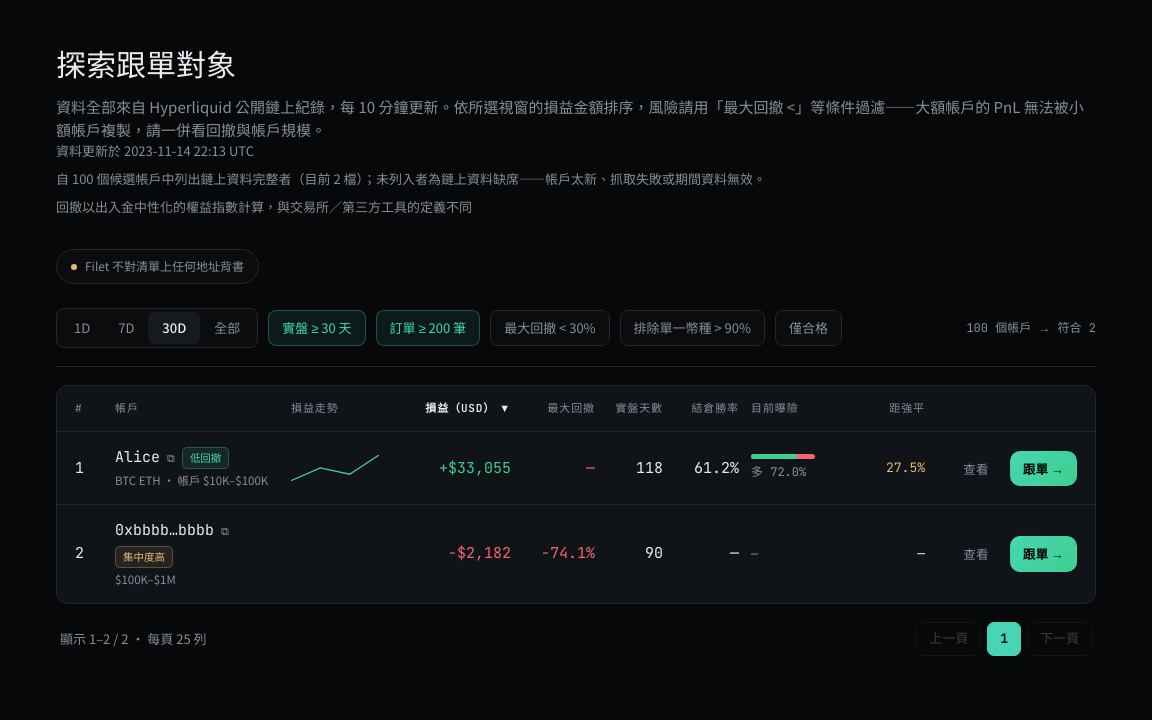
Test: ExplorePage — 表格渲染 › 所選窗對某列缺席（day/week best-effort）→ 該列該窗誠實顯示「—」，不回退借用其他窗
The width and height of the screenshot is (1152, 720).
Expected: the link "Alice" is shown, [115,446,160,470]
Click the button "1D" at (82, 328), box [60,312,104,344]
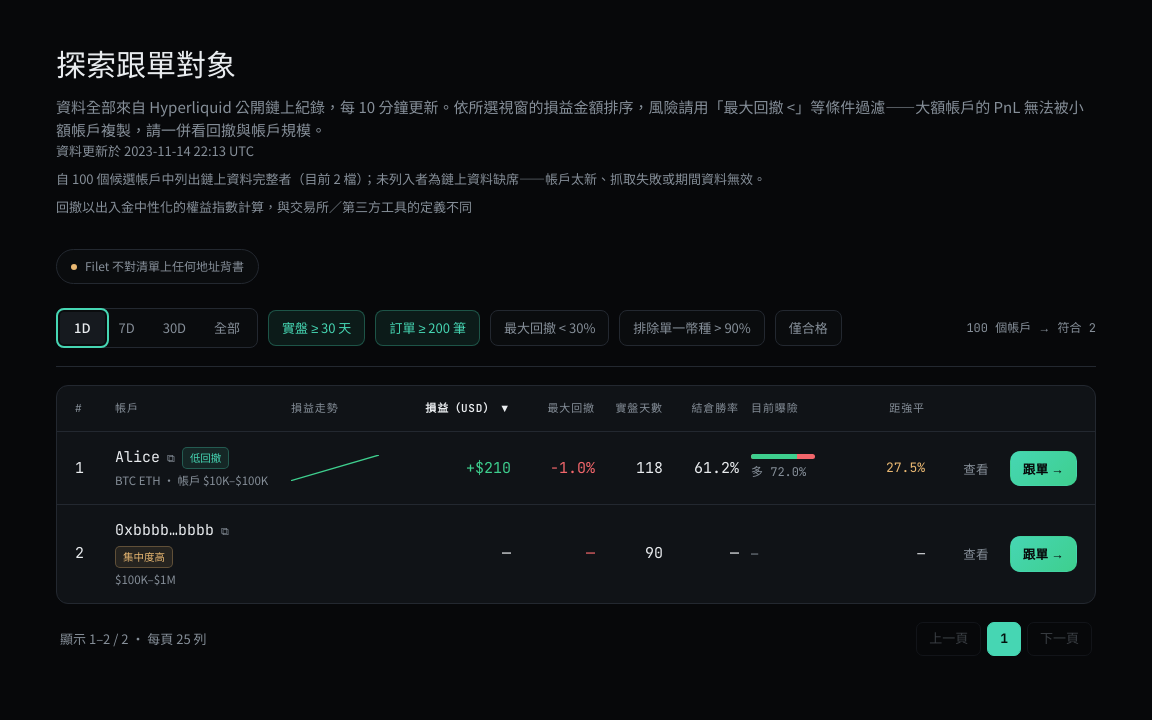
Now the text with class "explore-ret" reads "+$210", box [466,458,511,478]
Now the 1st text with class "explore-ret" reads "—", box [502,543,511,563]
Now the 1st element with class "explore-dd" reads "—", box [586,543,595,563]
